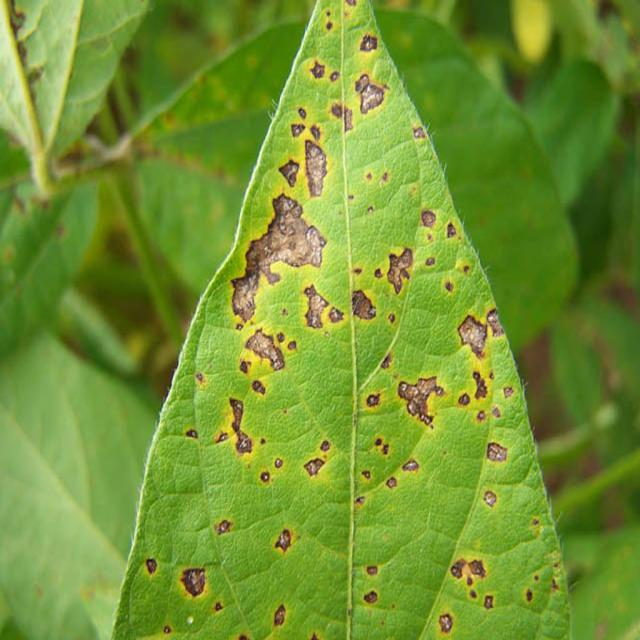leaf_spot: (113, 0, 568, 639)
